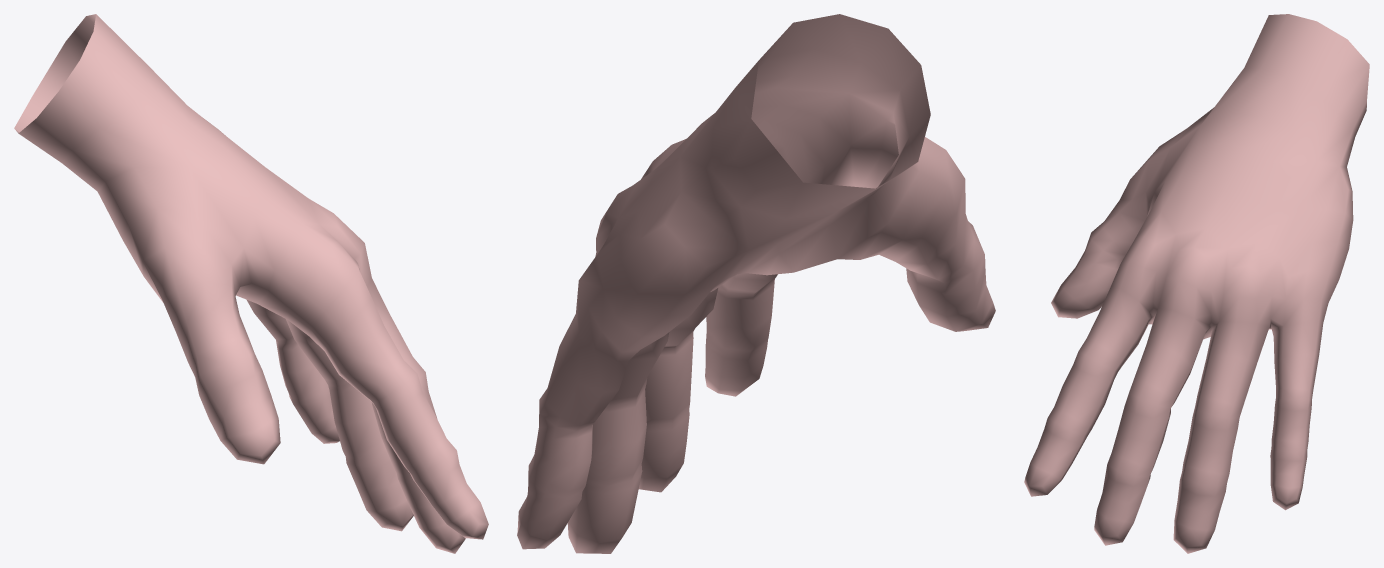
Rendered from Base_Male_A_Hand02.fbx.
The picture shows the model from 3 angles, left to right: view 1: azimuth 30°, elevation 25°; view 2: azimuth 150°, elevation 25°; view 3: azimuth 270°, elevation 25°; orthographic projection. The views are drawn at different scales.
Visible parts, largest first — view 1: Base_Male_A_Hand02; view 2: Base_Male_A_Hand02; view 3: Base_Male_A_Hand02.
Boxes of the visible parts, box(x1,y1,x2,y2) form: Base_Male_A_Hand02: box(14, 14, 488, 553); Base_Male_A_Hand02: box(517, 14, 995, 553); Base_Male_A_Hand02: box(1024, 14, 1369, 553).
Size of the model in its own units: 0.7684 by 1.14 by 0.8177.
